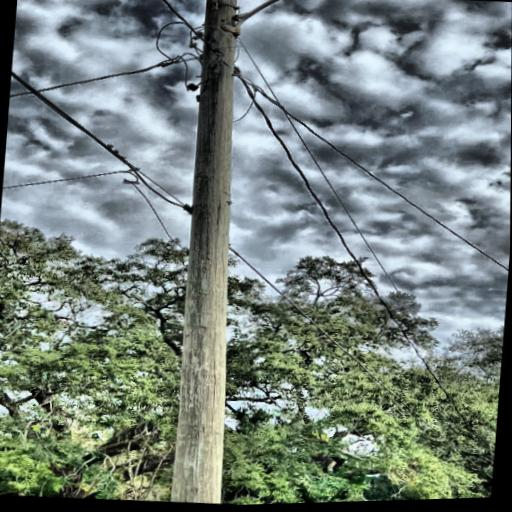pole: (156, 0, 269, 506)
street light: (219, 0, 425, 53)
